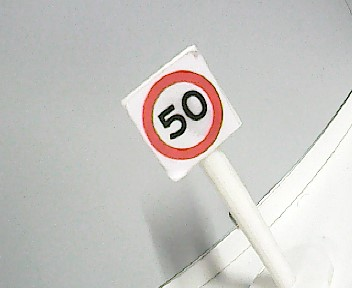50-bord: (142, 70, 223, 160)
